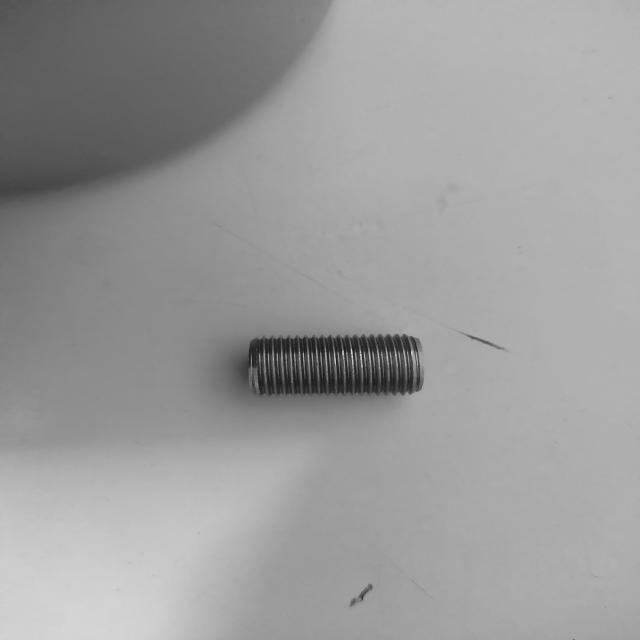Normal: (247, 333, 424, 398)
